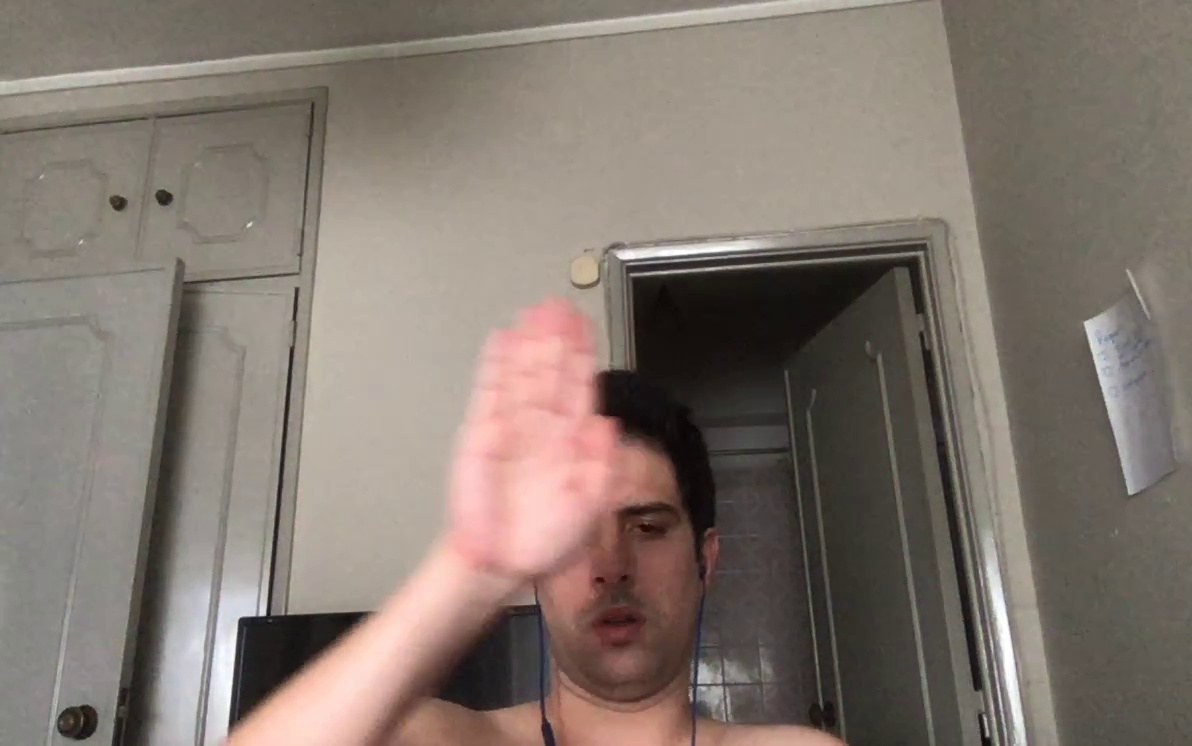b: (446, 290, 615, 590)
